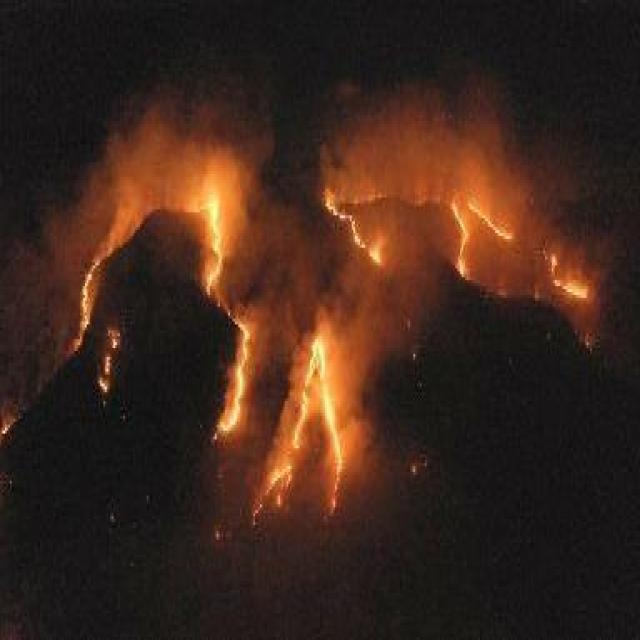fire: (61, 190, 257, 433), (319, 154, 591, 316), (271, 328, 344, 517)
